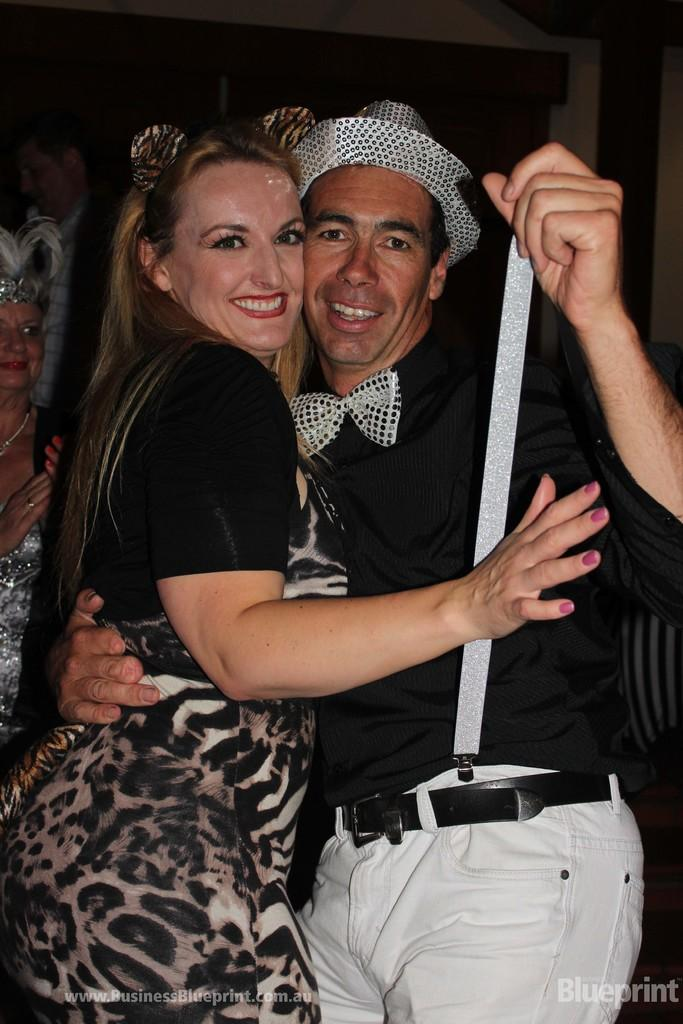Hat: (286, 94, 490, 272)
